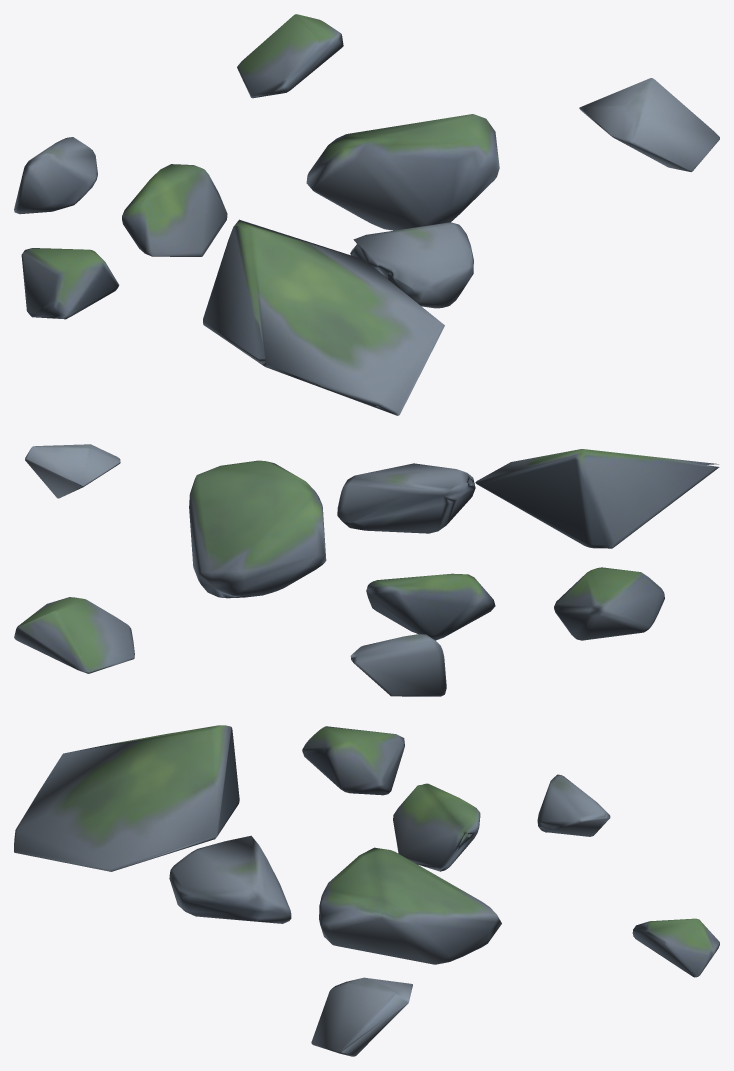
Rendered from riverbank_stones.glb.
3 views of the same model, one above another, from view 1: azimuth 30°, elevation 25°; view 2: azimuth 150°, elevation 25°; view 3: azimuth 270°, elevation 25° (orthographic). The views are drawn at different scales.
Visible parts, largest first — view 1: riverbank_stones; view 2: riverbank_stones; view 3: riverbank_stones.
Part boxes in pixels (bbox=[...]): riverbank_stones: bbox=[14, 14, 719, 415]; riverbank_stones: bbox=[14, 444, 719, 696]; riverbank_stones: bbox=[14, 725, 719, 1056].
Size of the model in its own units: 1.88 by 0.3152 by 1.84.
Materials: 1 (1 with a texture image).
